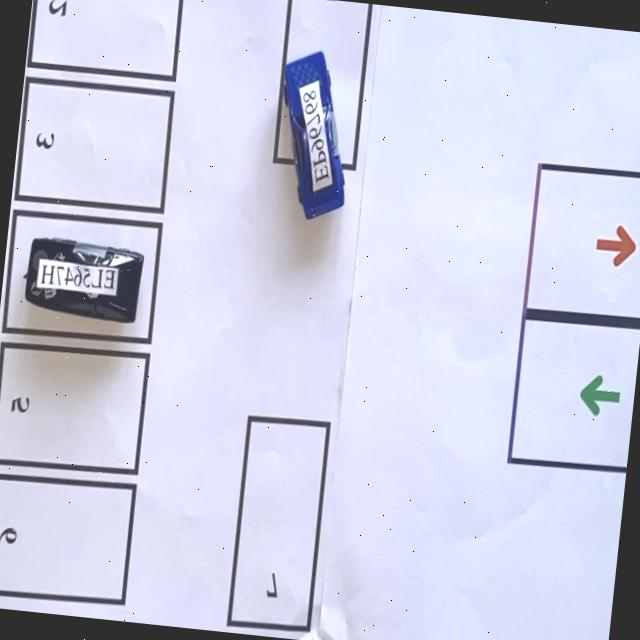car: (284, 51, 344, 218), (25, 240, 143, 323)
